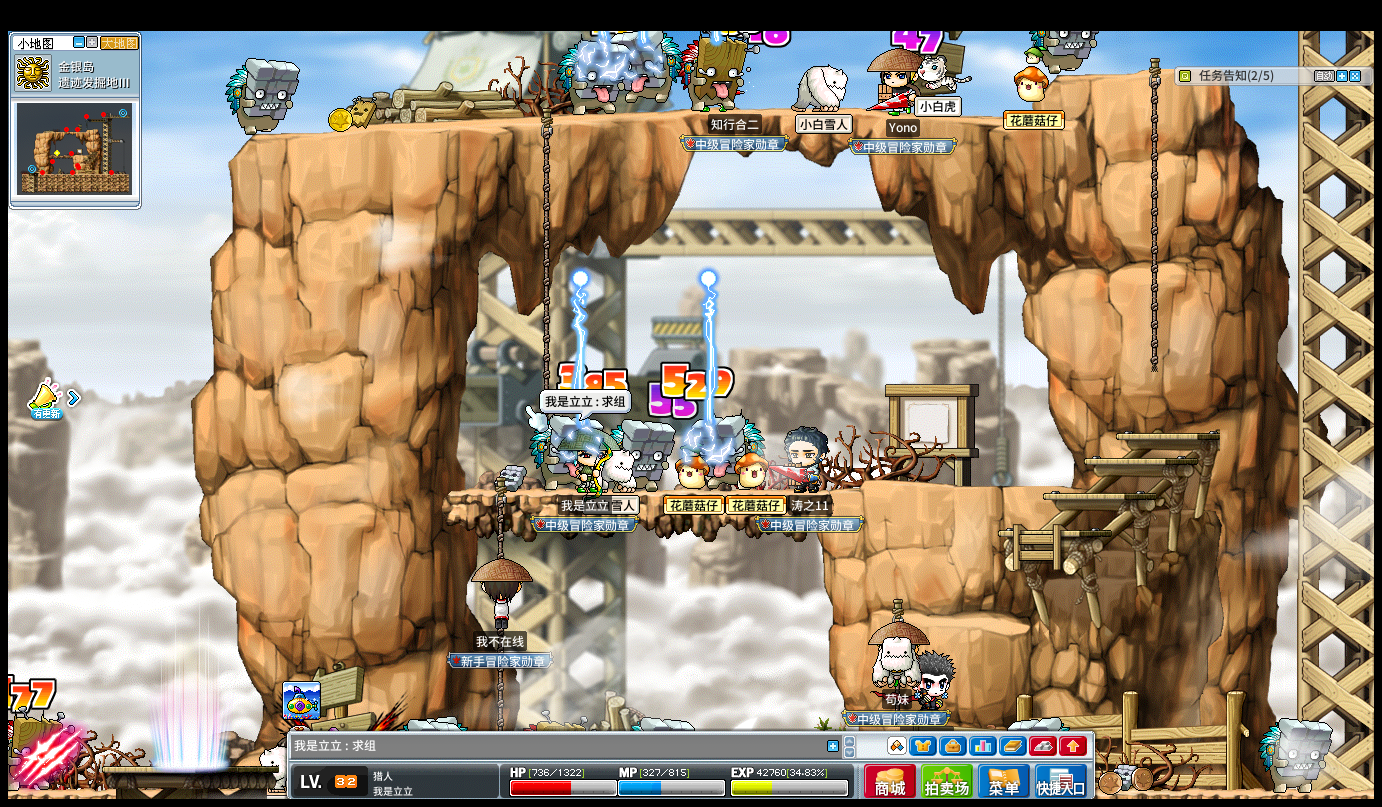floor: (228, 103, 1100, 136), (449, 487, 822, 499), (924, 612, 1029, 634), (863, 481, 1090, 491), (884, 482, 1076, 492), (1061, 66, 1163, 79), (1056, 69, 1165, 81), (1115, 429, 1221, 441), (1077, 456, 1196, 465), (997, 528, 1110, 536), (1044, 492, 1157, 500)
monster: (225, 56, 301, 136), (531, 417, 607, 491), (1258, 718, 1331, 791), (3, 709, 69, 788), (556, 34, 609, 114), (615, 418, 675, 488), (632, 29, 682, 113), (530, 417, 584, 491), (534, 418, 610, 460), (696, 415, 763, 458), (615, 419, 676, 464)
rope: (1147, 57, 1161, 374), (540, 107, 550, 411), (492, 482, 505, 558)
